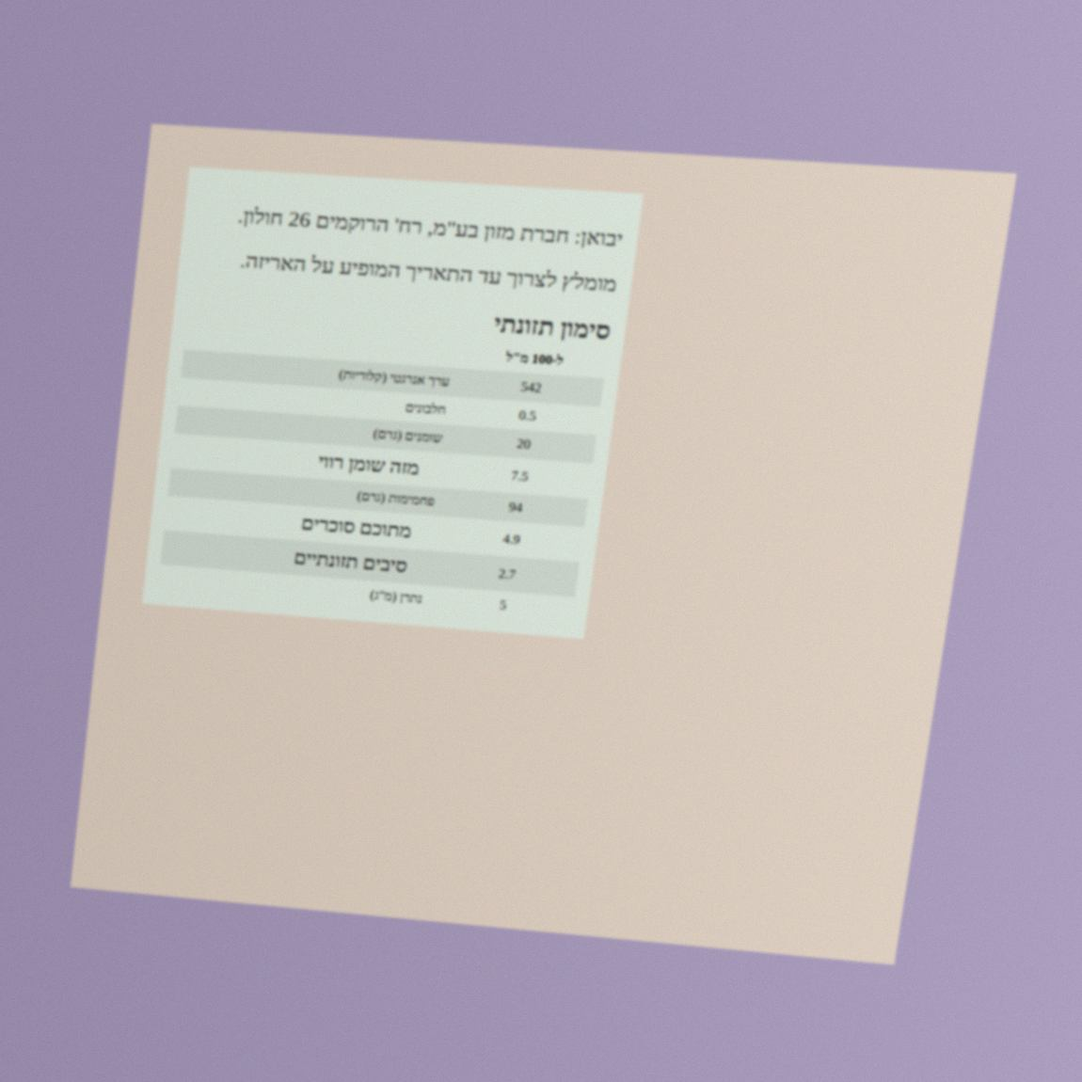carbs: (506, 498, 525, 516)
energy: (518, 378, 544, 396)
fat: (514, 435, 533, 453)
protein: (516, 407, 538, 425)
